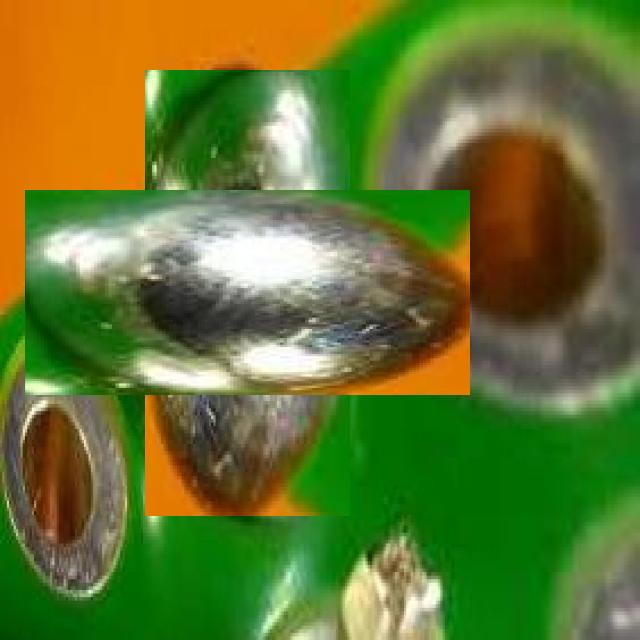redundant: (25, 191, 470, 394)
